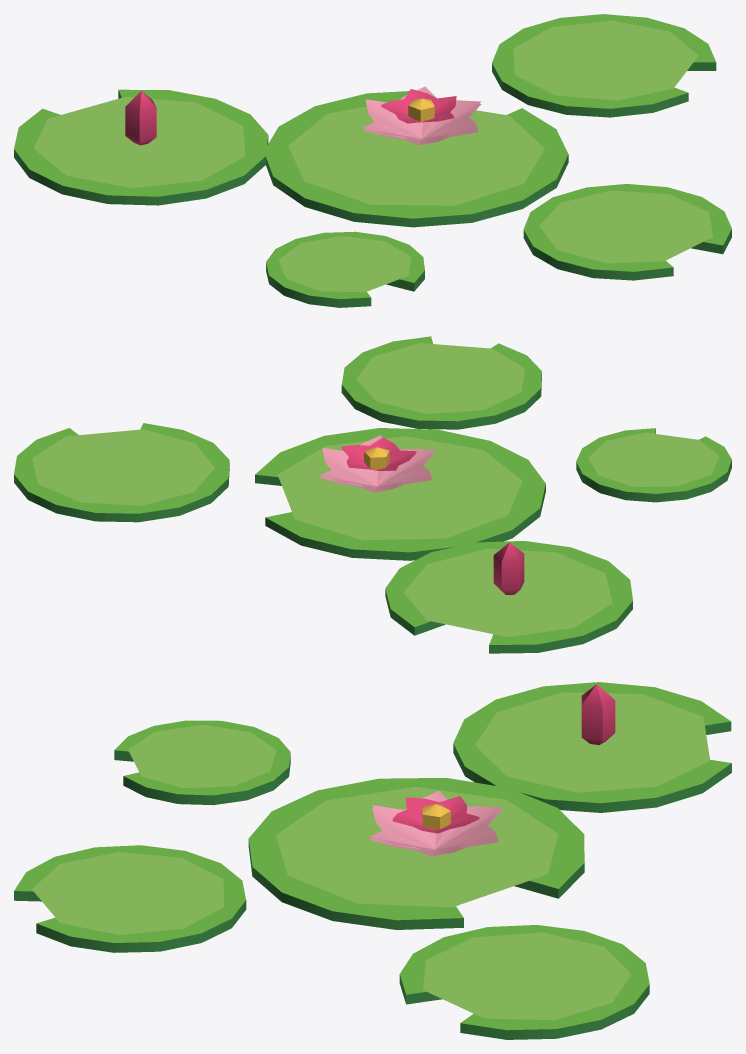
Rendered from Nenufares.fbx.
The picture shows the model from 3 angles, top to bottom: view 1: azimuth 30°, elevation 25°; view 2: azimuth 150°, elevation 25°; view 3: azimuth 270°, elevation 25°; orthographic projection. The views are drawn at different scales.
Parts seen in each view (by area): view 1: Nenufares; view 2: Nenufares; view 3: Nenufares.
Boxes of the visible parts, <box> form: Nenufares: <box>14,14,731,307</box>; Nenufares: <box>14,336,731,653</box>; Nenufares: <box>14,682,731,1039</box>.
Bounding box in the file's own units: 4.59 × 0.42 × 4.
1 material, 1 textured.
